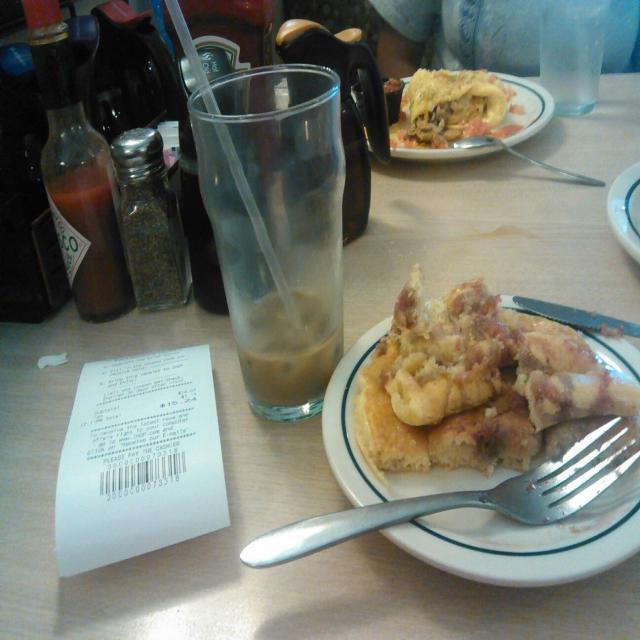Omelette: (409, 63, 511, 138)
Pancakes: (358, 278, 635, 481)
